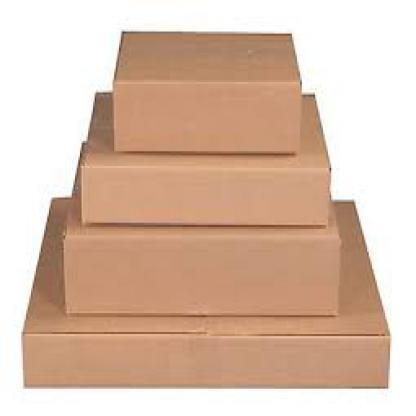box: (21, 196, 390, 387), (59, 141, 340, 317), (79, 91, 330, 223), (111, 30, 299, 152)
